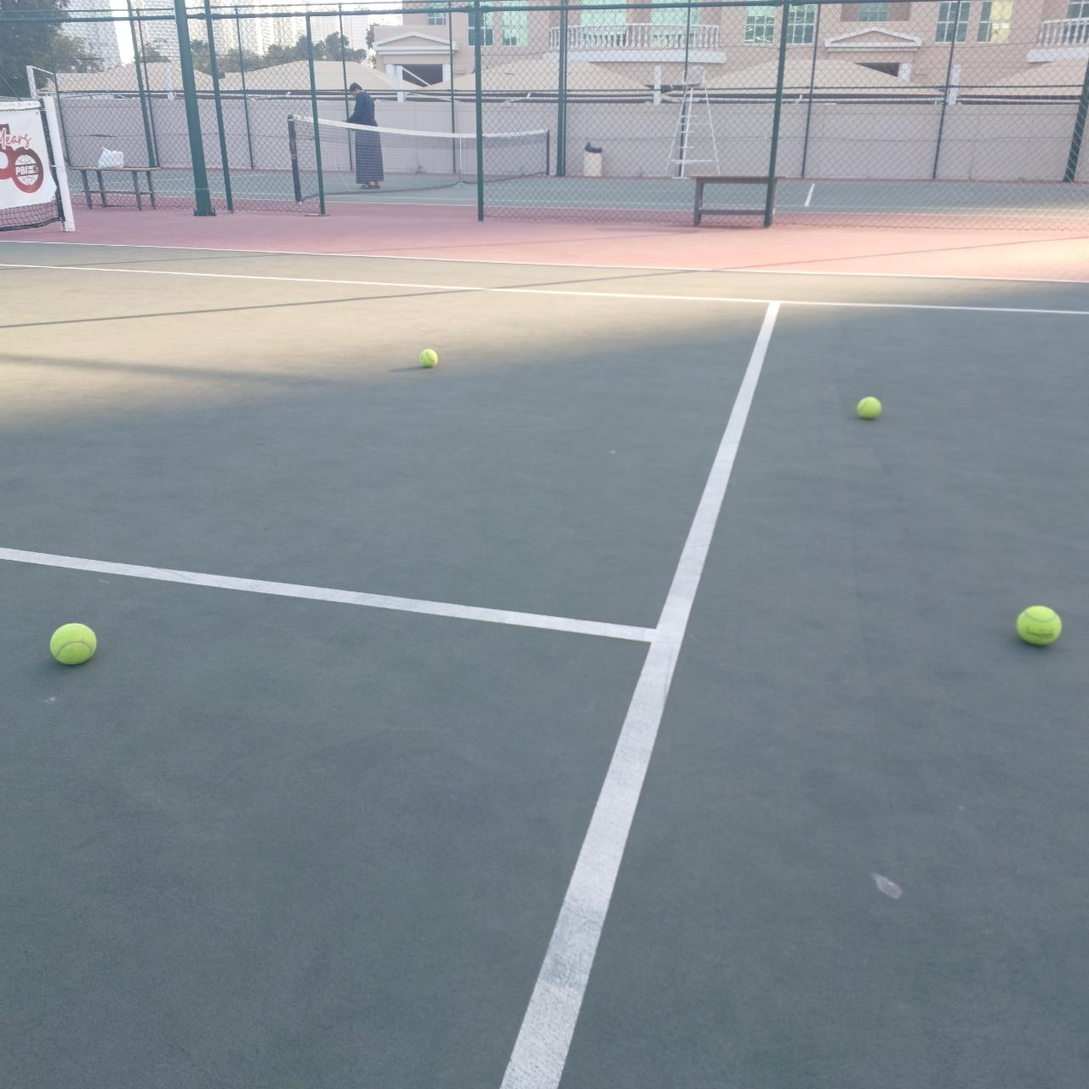tennis-ball: (48, 619, 98, 665), (1014, 602, 1063, 646), (854, 393, 881, 419), (418, 345, 438, 368)
